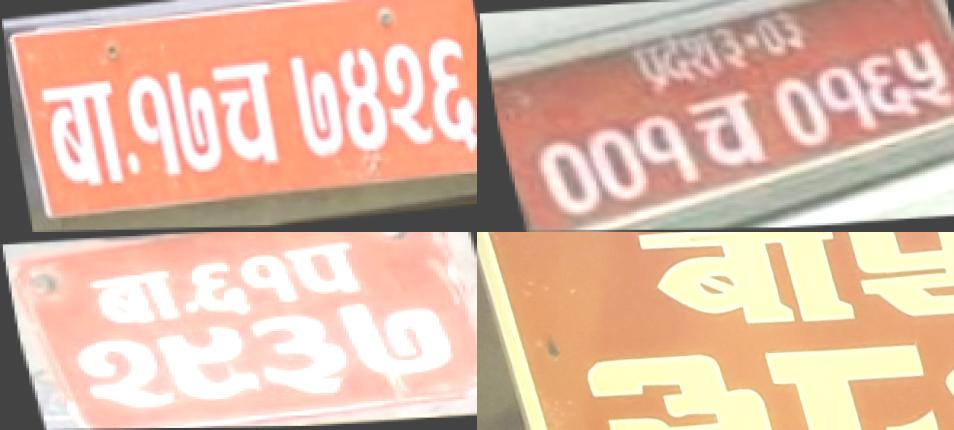0: (631, 232, 854, 337), (523, 137, 601, 214), (577, 124, 649, 201), (765, 76, 832, 148), (750, 17, 788, 56)
1: (119, 68, 181, 186), (620, 111, 704, 186), (807, 60, 876, 134), (235, 251, 299, 314)
2: (372, 33, 438, 164), (63, 334, 171, 412)
3: (238, 312, 353, 400), (706, 24, 750, 70), (772, 3, 807, 48)
4: (329, 40, 392, 166)
5: (890, 39, 952, 111)
6: (841, 232, 954, 325), (418, 28, 477, 163), (180, 258, 250, 318), (851, 57, 912, 120)
7: (329, 296, 457, 380), (279, 43, 349, 170), (161, 60, 227, 188)
9: (150, 323, 258, 398)
ba: (573, 347, 777, 430), (26, 73, 134, 205), (78, 269, 184, 330)
cha: (203, 50, 290, 182), (675, 91, 772, 170)
pa: (758, 336, 941, 430), (278, 240, 369, 301)
